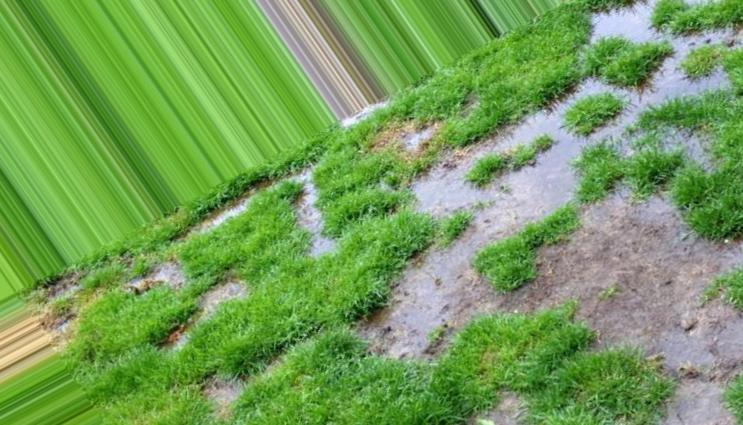patch: (573, 254, 673, 323), (606, 208, 674, 262), (669, 316, 737, 357), (419, 278, 462, 327), (503, 178, 556, 213), (433, 180, 468, 207), (604, 16, 635, 34)
